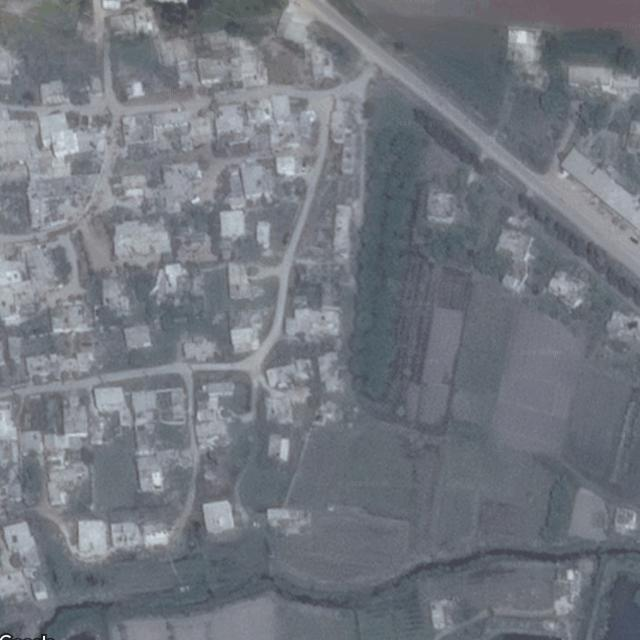damaged_building: (112, 222, 171, 260), (19, 349, 95, 378), (262, 388, 300, 425), (317, 348, 344, 391)
